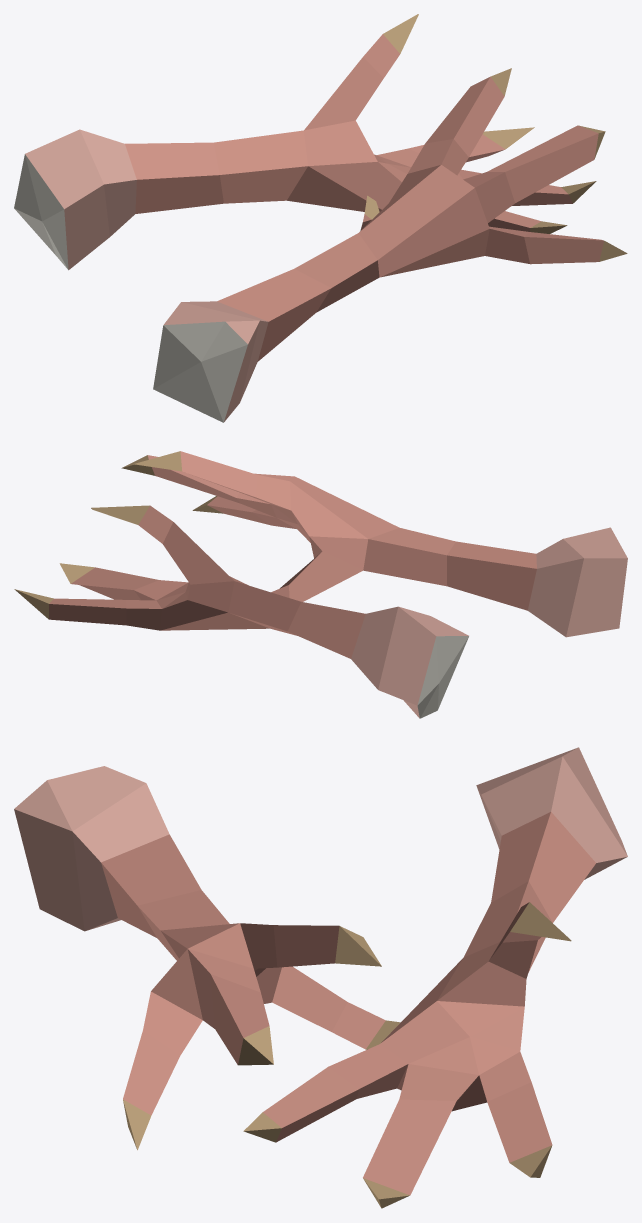
File: PT_Chicken_Claws_01.fbx
3 renders of one model, top to bottom at view 1: azimuth 30°, elevation 25°; view 2: azimuth 150°, elevation 25°; view 3: azimuth 270°, elevation 25°, orthographic. The views are drawn at different scales.
Visible parts, largest first — view 1: PT_Chicken_Claws_01; view 2: PT_Chicken_Claws_01; view 3: PT_Chicken_Claws_01.
Boxes of the visible parts, <box> form: PT_Chicken_Claws_01: <box>14,14,627,422</box>; PT_Chicken_Claws_01: <box>14,451,627,718</box>; PT_Chicken_Claws_01: <box>14,747,627,1208</box>.
Size of the model in its own units: 21.21 by 6.53 by 15.66.
1 material, 1 textured.
